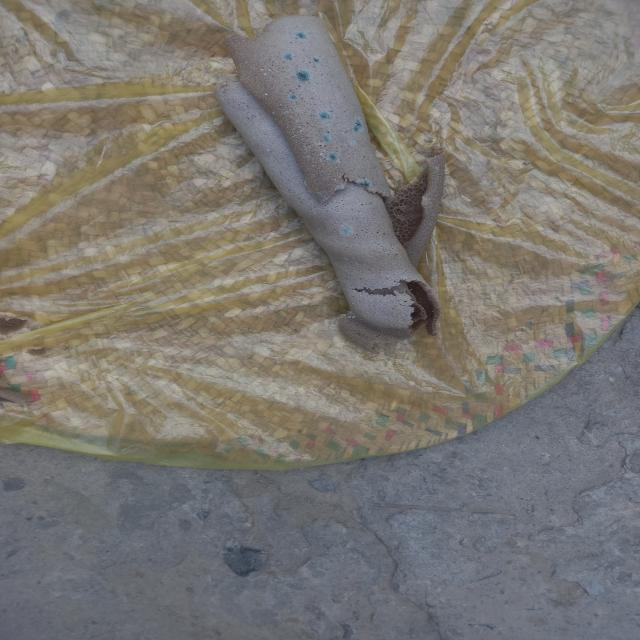injera_mold: (336, 224, 354, 238), (352, 118, 363, 135), (354, 179, 371, 190), (296, 71, 311, 83), (326, 151, 339, 164), (316, 111, 330, 123), (313, 192, 327, 203), (288, 92, 300, 102), (282, 53, 296, 61), (322, 134, 332, 145), (295, 32, 308, 39), (311, 57, 322, 65), (422, 196, 429, 206), (312, 141, 321, 145), (319, 152, 324, 159), (291, 134, 299, 138), (344, 316, 358, 318), (337, 187, 345, 190), (302, 156, 310, 159), (302, 144, 308, 148), (434, 166, 440, 170), (284, 110, 289, 114), (424, 158, 429, 162), (293, 141, 297, 145), (302, 138, 307, 141), (267, 147, 270, 152), (300, 130, 303, 134), (334, 179, 338, 182), (343, 175, 347, 178), (308, 146, 312, 149), (313, 173, 316, 176), (264, 93, 268, 95), (263, 73, 267, 75), (351, 142, 355, 144), (272, 112, 275, 114), (280, 103, 282, 106), (286, 126, 289, 128), (398, 214, 400, 217), (314, 162, 317, 164), (339, 176, 341, 178), (291, 122, 293, 124), (417, 202, 419, 203), (408, 232, 410, 233)
